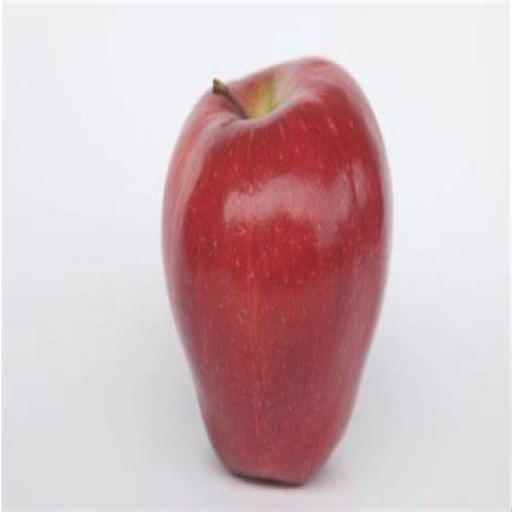fruit: (319, 108, 456, 438)
